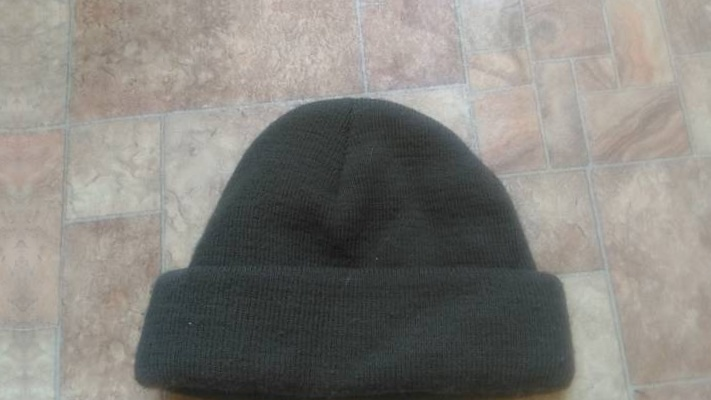Hat: (112, 88, 576, 400)
